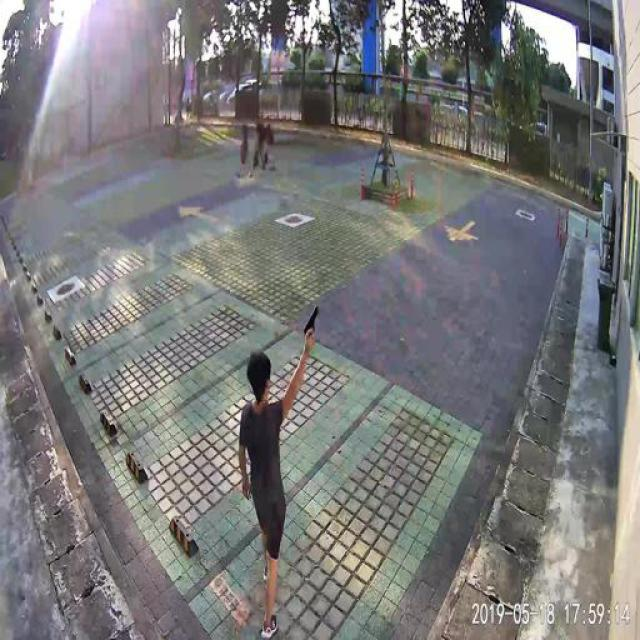weapon: (303, 305, 320, 338)
